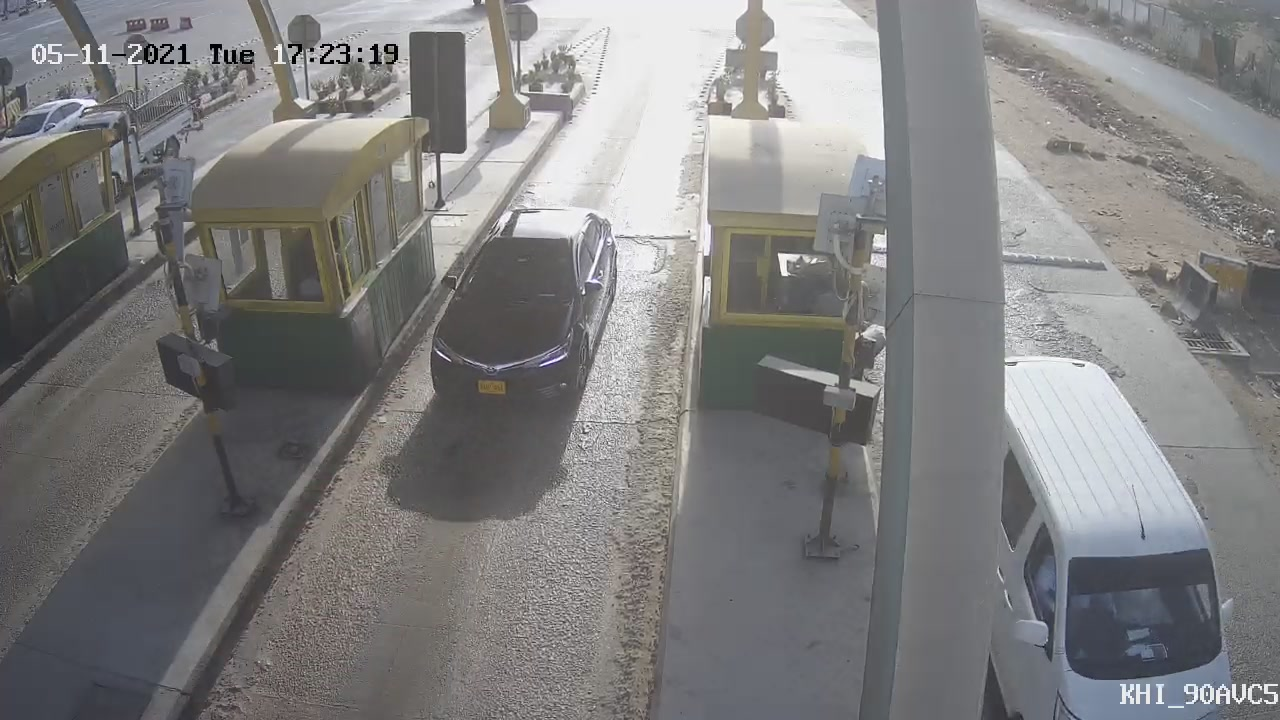F1: (407, 185, 634, 438)
